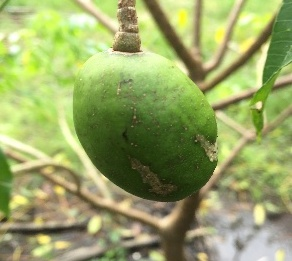Coc: (61, 47, 226, 213)
